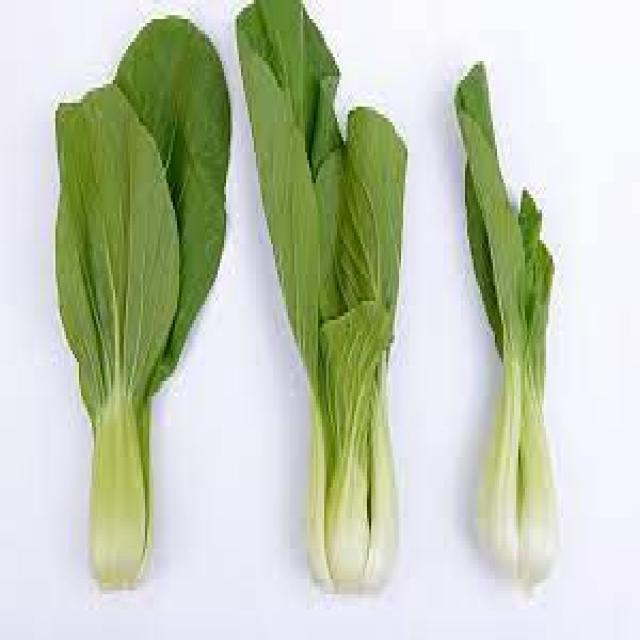Organik: (233, 0, 422, 600), (45, 4, 232, 592), (448, 42, 582, 602)
